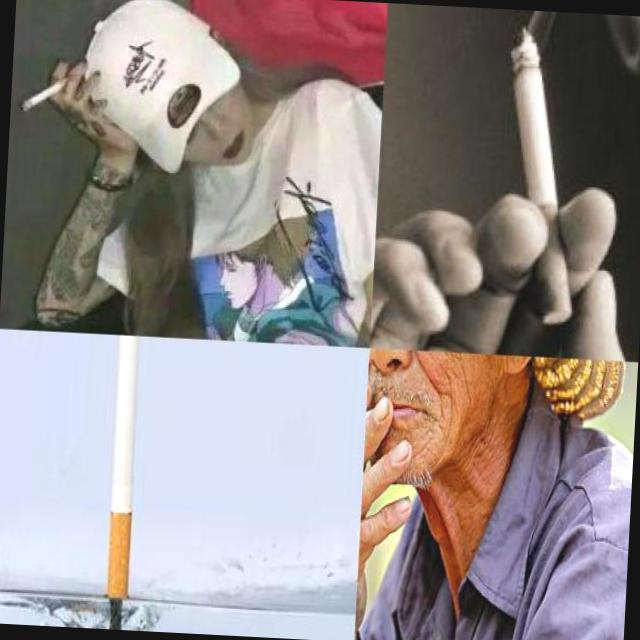smoke: (495, 28, 587, 328), (104, 335, 141, 600), (19, 70, 72, 116), (366, 404, 385, 445)
